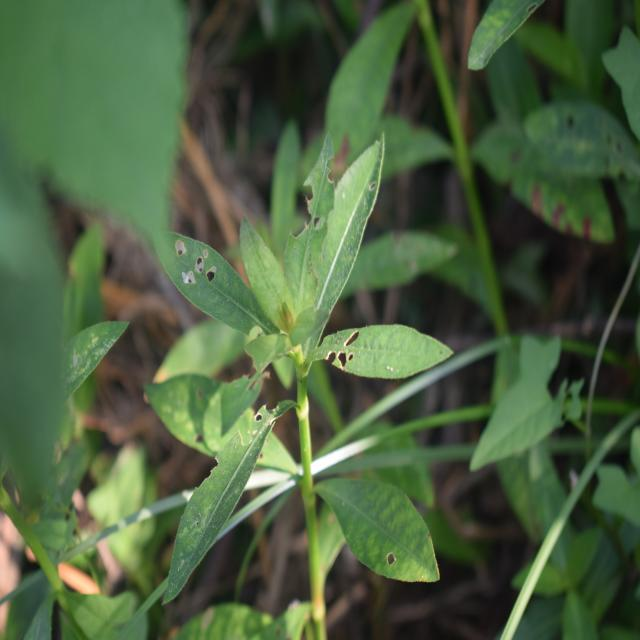Alligatorweed: (138, 150, 437, 600)
